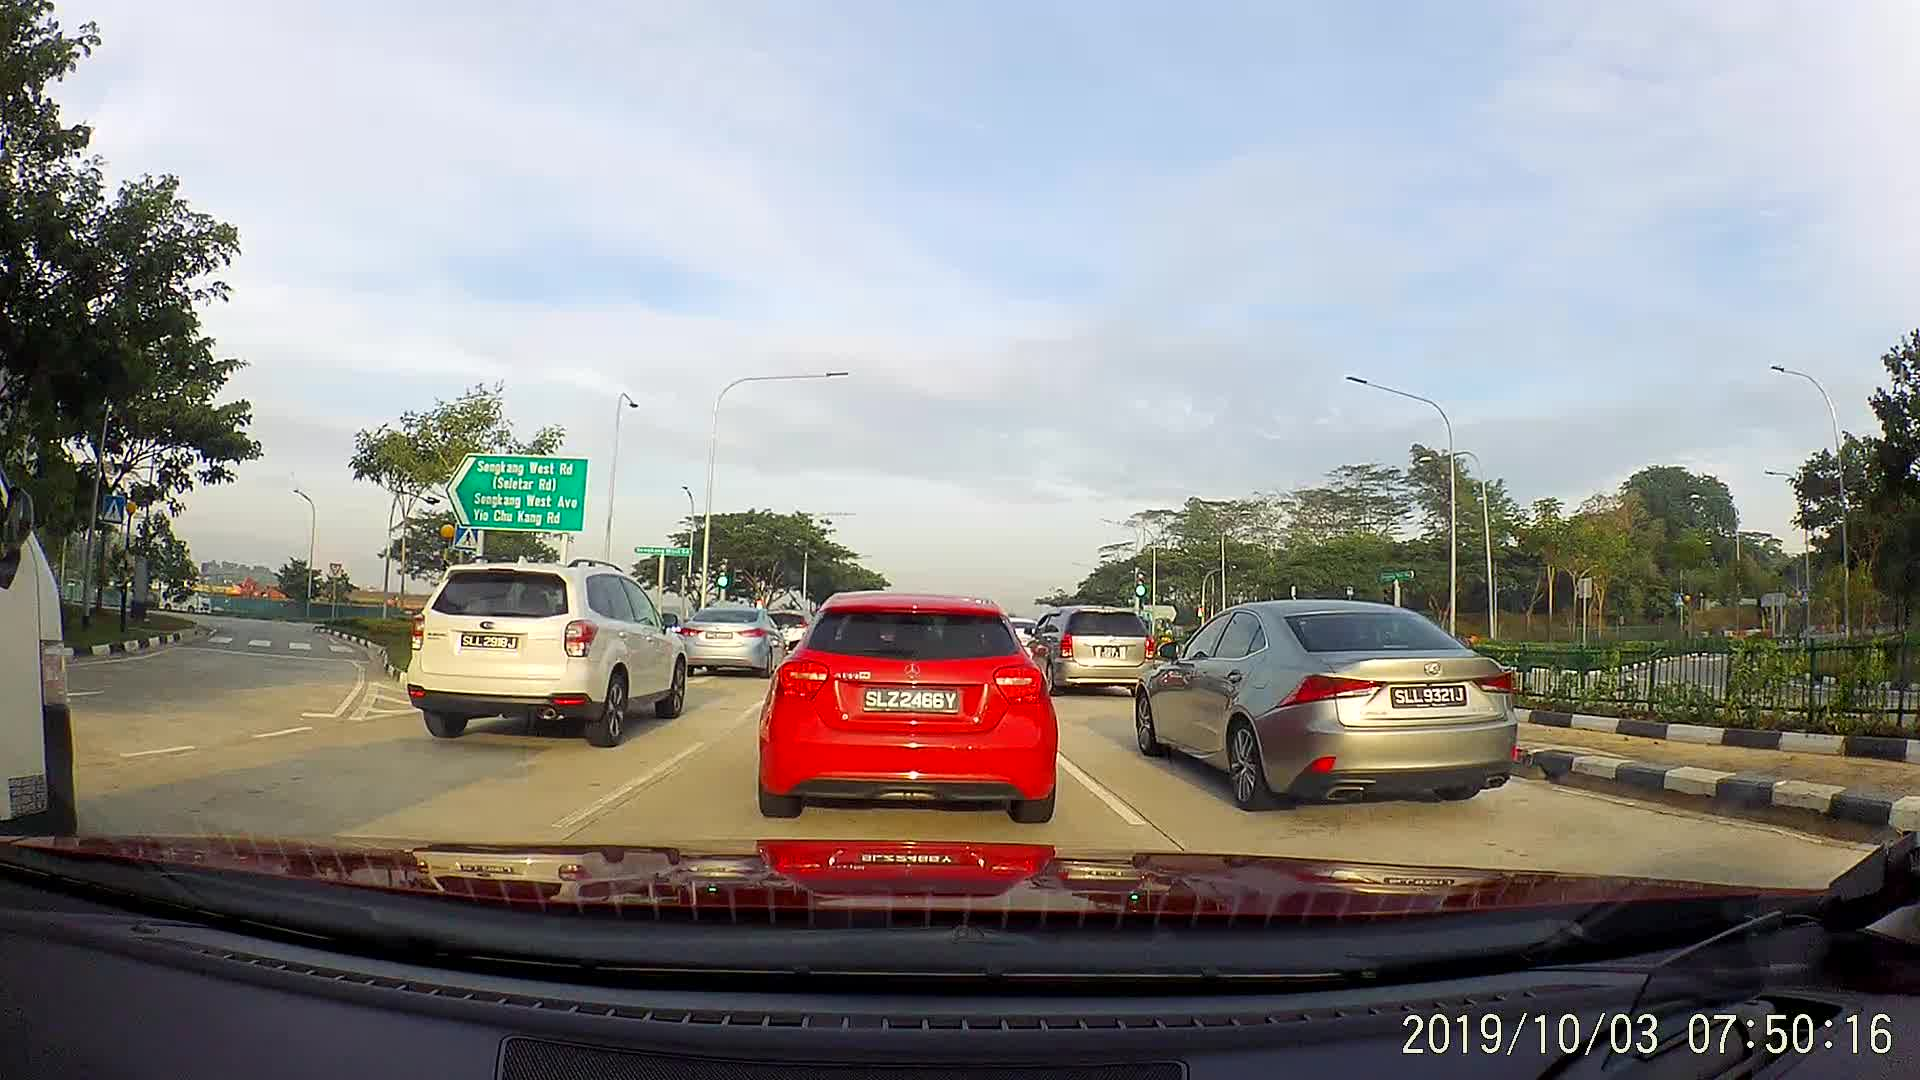car: (1127, 593, 1524, 816), (752, 578, 1064, 825), (396, 554, 694, 752), (1026, 593, 1160, 698), (676, 597, 795, 684)
